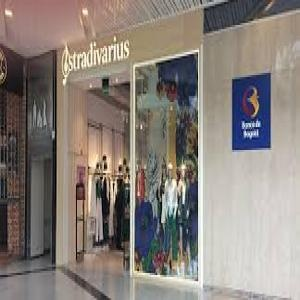stradivarius: (82, 47, 202, 59)
